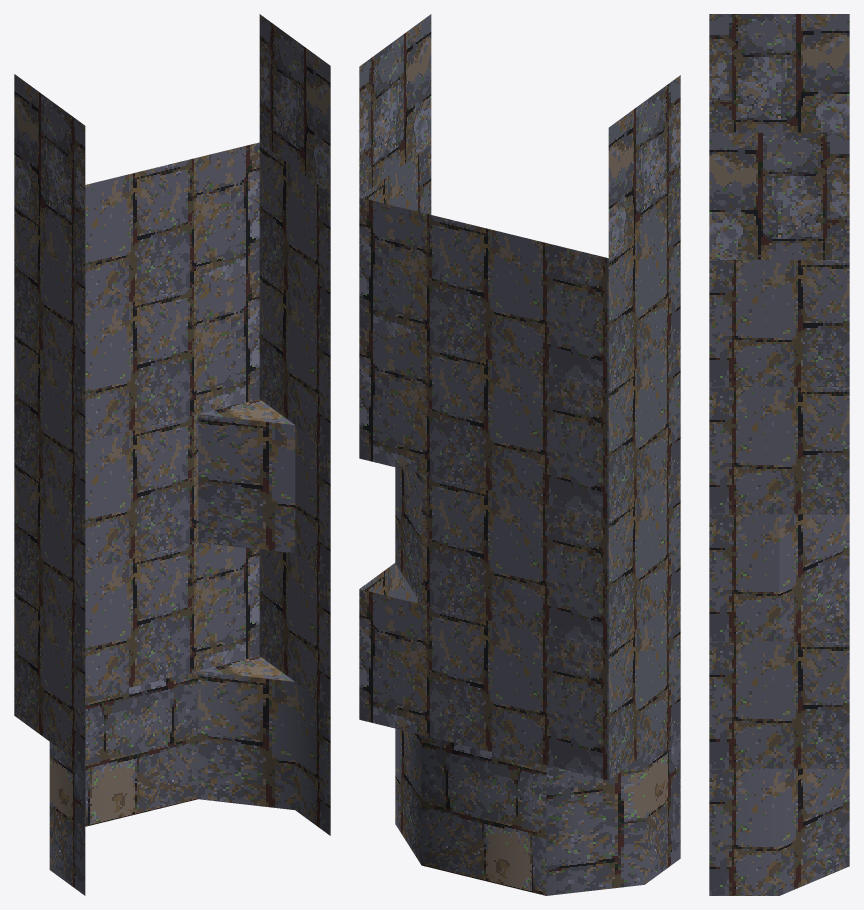
Rendered from pieces.glb.
3 views of the same model, side by side, from view 1: azimuth 30°, elevation 25°; view 2: azimuth 150°, elevation 25°; view 3: azimuth 270°, elevation 25° (orthographic). The views are drawn at different scales.
Visible parts, largest first — view 1: halfbevelsidewall, bevelsidewall, half bevel wall, sidewall, bevelwall, floorCeiling; view 2: sidewall, bevelsidewall, halfbevelsidewall, half bevel wall, bevelwall, floorCeiling; view 3: floorCeiling, bevelsidewall, halfbevelsidewall, sidewall, bevelwall, half bevel wall.
Part boxes in pixels (x1,y1,x2,y2): halfbevelsidewall: [14, 270, 330, 510]; bevelsidewall: [14, 542, 330, 767]; half bevel wall: [14, 414, 330, 638]; sidewall: [14, 142, 330, 381]; bevelwall: [49, 671, 330, 895]; floorCeiling: [14, 14, 330, 253]; sidewall: [359, 145, 680, 388]; bevelsidewall: [359, 563, 680, 780]; halfbevelsidewall: [359, 328, 680, 519]; half bevel wall: [395, 467, 680, 649]; bevelwall: [395, 728, 680, 895]; floorCeiling: [359, 14, 680, 257]; floorCeiling: [709, 14, 849, 259]; bevelsidewall: [709, 612, 849, 768]; halfbevelsidewall: [709, 387, 849, 514]; sidewall: [709, 260, 849, 386]; bevelwall: [709, 768, 849, 895]; half bevel wall: [709, 514, 849, 641].
Bounding box in the file's own units: 4 × 12 × 2.
1 material, 1 textured.
